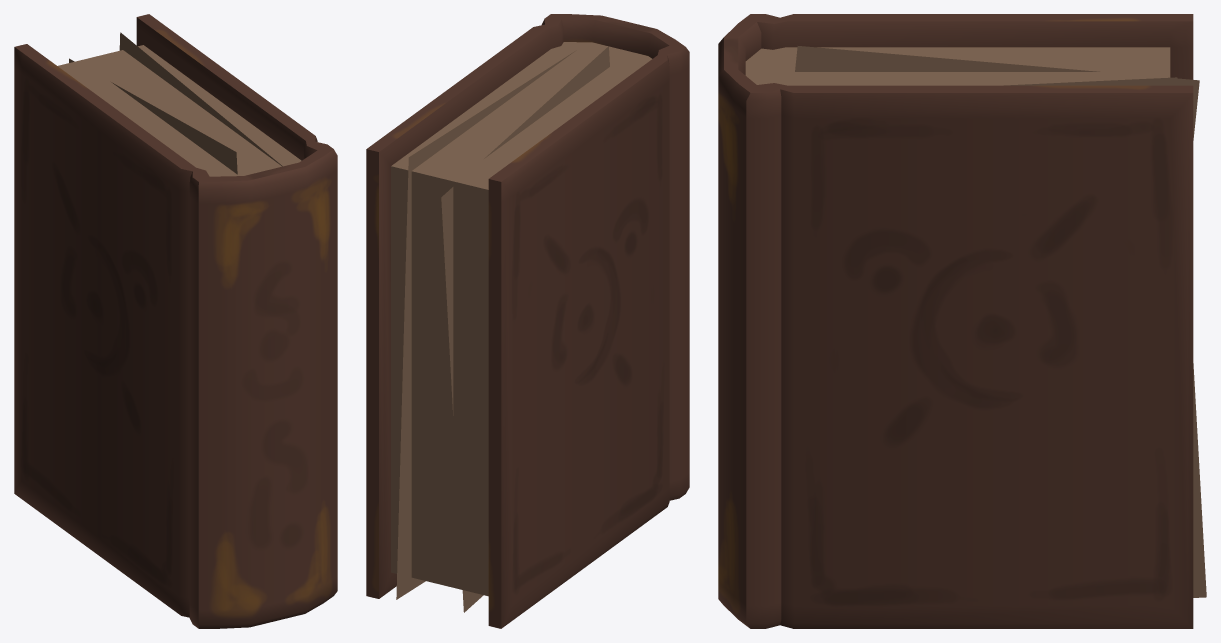
Rendered from FBX_Book_B_Wide.fbx.
3 renders of one model, left to right at view 1: azimuth 30°, elevation 25°; view 2: azimuth 150°, elevation 25°; view 3: azimuth 270°, elevation 25°, orthographic. The views are drawn at different scales.
Parts seen in each view (by area): view 1: Book_B_Wide; view 2: Book_B_Wide; view 3: Book_B_Wide.
Part boxes in pixels (x1,y1,x2,y2): Book_B_Wide: (14, 14, 337, 628); Book_B_Wide: (366, 14, 689, 628); Book_B_Wide: (718, 14, 1206, 628).
Size of the model in its own units: 0.1104 by 0.3503 by 0.2805.
